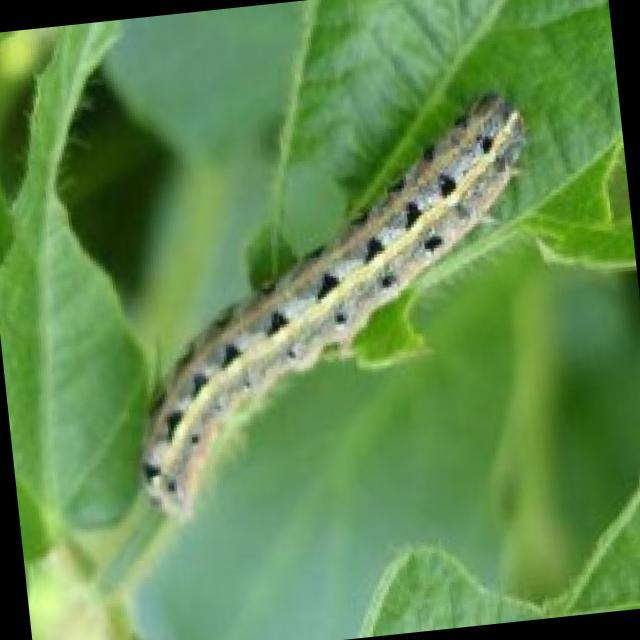Plaga: (89, 86, 578, 542)
